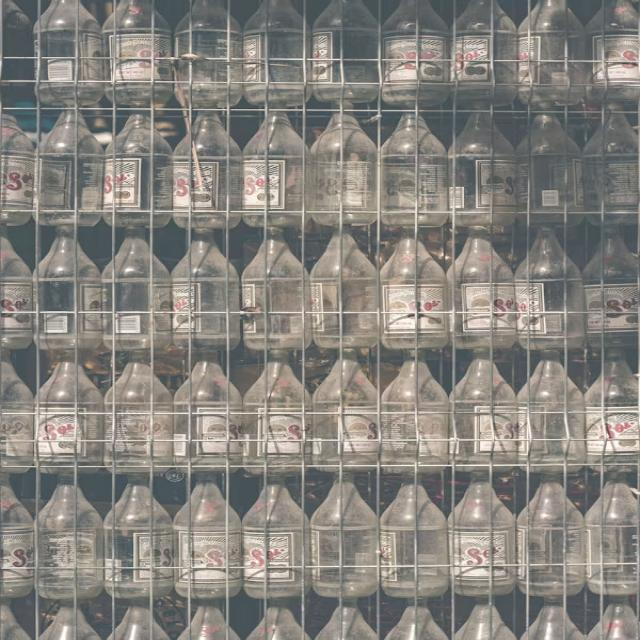Bottle: (173, 472, 242, 600), (36, 471, 104, 600), (104, 473, 173, 600), (243, 350, 311, 477), (380, 476, 449, 600), (102, 227, 171, 351), (447, 227, 517, 349), (518, 472, 585, 599), (381, 350, 450, 473), (242, 227, 311, 350), (243, 476, 311, 600), (448, 473, 516, 597), (34, 226, 102, 350), (104, 351, 173, 473), (515, 227, 584, 349), (380, 229, 450, 349), (311, 473, 377, 600), (451, 348, 518, 472), (518, 350, 585, 473), (174, 351, 242, 472), (171, 229, 239, 350), (36, 351, 103, 473), (173, 111, 242, 229), (35, 109, 104, 226), (311, 227, 377, 349), (313, 350, 379, 472), (240, 111, 309, 227), (448, 111, 517, 226), (308, 113, 378, 226), (381, 114, 449, 229), (104, 113, 172, 227), (517, 113, 584, 226), (34, 0, 104, 106), (103, 0, 172, 107), (382, 0, 451, 107), (174, 0, 242, 108), (519, 0, 587, 107), (243, 0, 311, 106), (583, 224, 639, 349), (452, 0, 518, 106), (311, 0, 378, 103), (583, 104, 639, 225), (585, 349, 639, 472), (585, 472, 638, 597), (586, 0, 639, 105), (0, 470, 35, 598), (0, 224, 34, 349), (0, 349, 34, 473), (0, 113, 36, 225), (0, 0, 35, 107), (39, 584, 100, 639), (455, 590, 516, 639), (108, 594, 169, 639), (521, 598, 584, 639), (316, 598, 378, 639), (384, 600, 447, 639), (178, 601, 239, 639), (247, 603, 310, 639), (587, 597, 639, 639), (0, 601, 30, 639)
